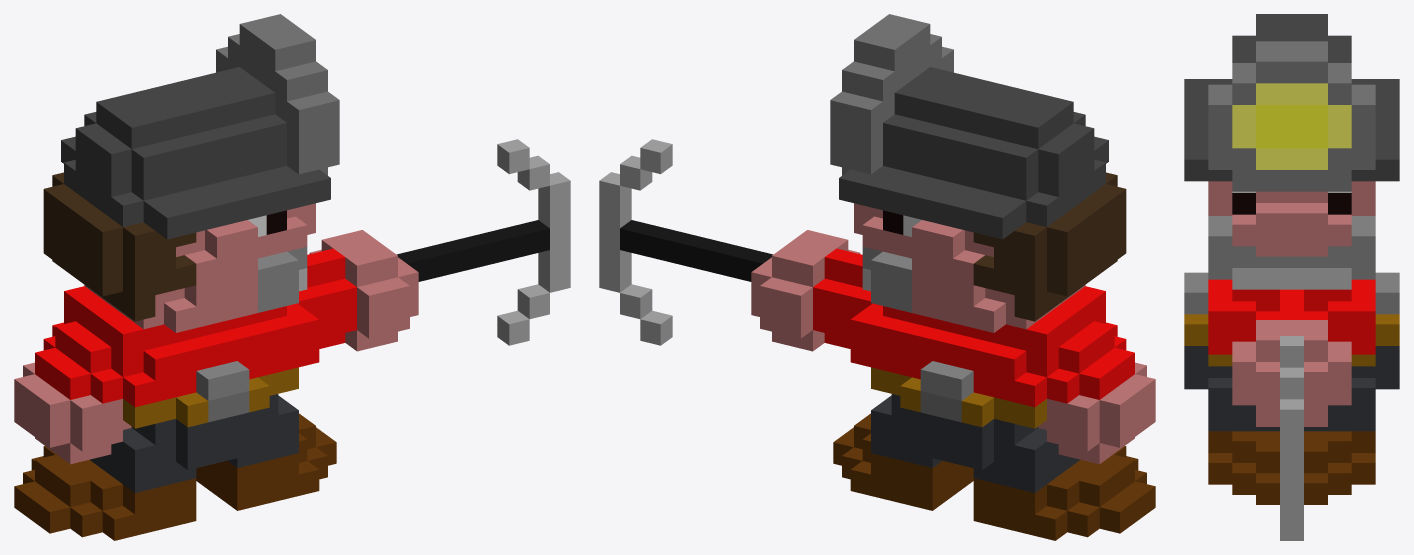
Rendered from PickaxeAnim-03.obj.
3 renders of one model, left to right at view 1: azimuth 30°, elevation 25°; view 2: azimuth 150°, elevation 25°; view 3: azimuth 270°, elevation 25°, orthographic.
Bounding box in the file's own units: 26 × 20 × 9.
Materials: 1 (1 with a texture image).
